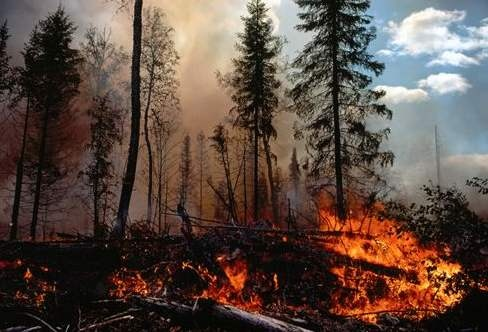fire: (314, 193, 465, 320), (191, 255, 266, 315), (103, 261, 155, 301)
